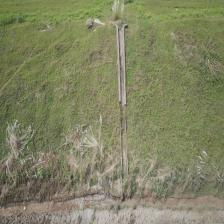slope_drain: (112, 21, 128, 176)
